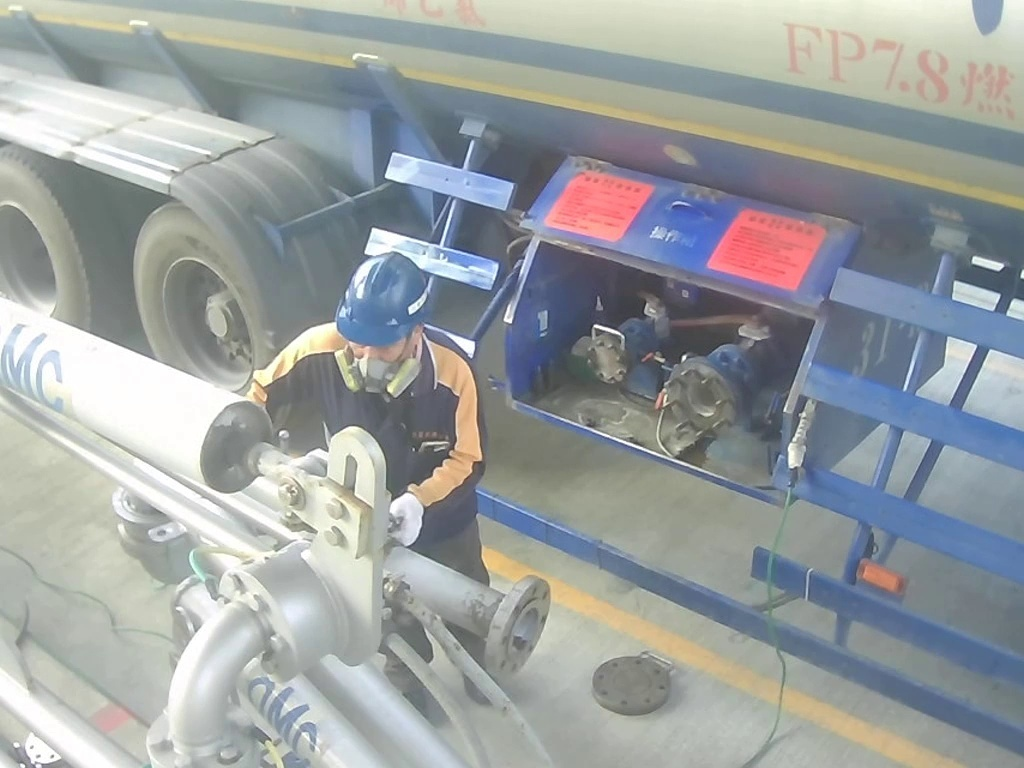helmet: (325, 247, 440, 401)
mask: (329, 342, 423, 393)
person: (195, 247, 555, 729)
